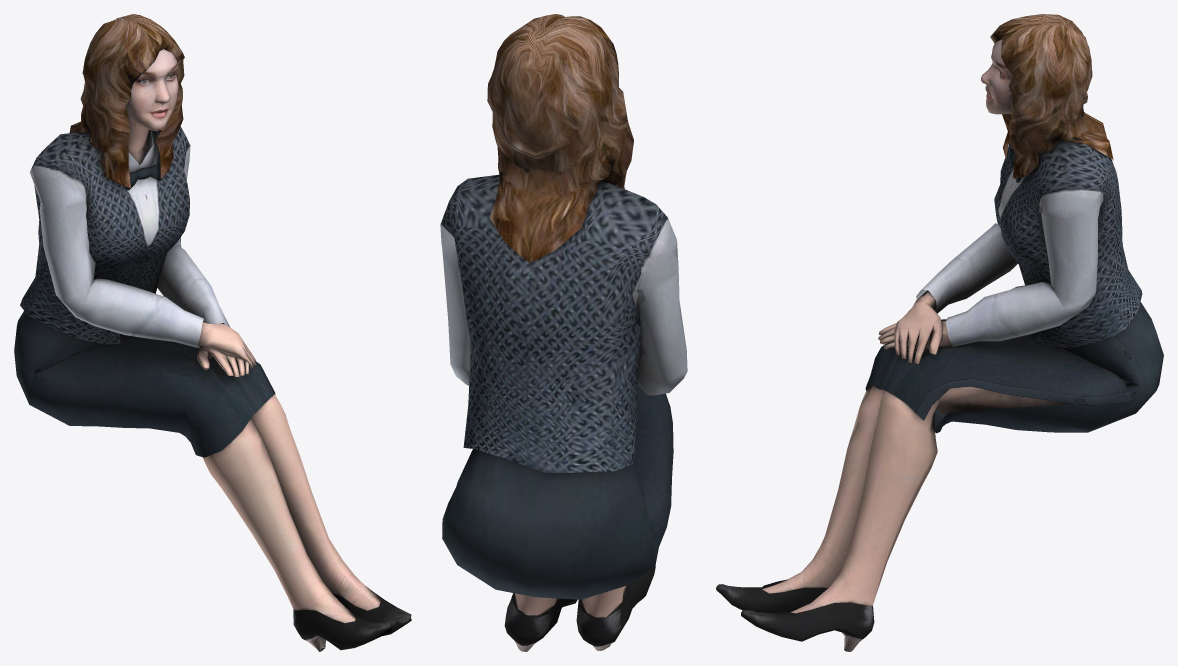
The model's file is SWT01_08_02.fbx.
3 renders of one model, left to right at view 1: azimuth 30°, elevation 25°; view 2: azimuth 150°, elevation 25°; view 3: azimuth 270°, elevation 25°, orthographic. The views are drawn at different scales.
Visible parts, largest first — view 1: WAIT01_08_02; view 2: WAIT01_08_02; view 3: WAIT01_08_02.
Boxes of the visible parts, x1=… form: WAIT01_08_02: x1=14, y1=14, x2=411, y2=651; WAIT01_08_02: x1=440, y1=14, x2=687, y2=651; WAIT01_08_02: x1=716, y1=14, x2=1163, y2=651.
Size of the model in its own units: 21.5 by 49.79 by 35.01.
